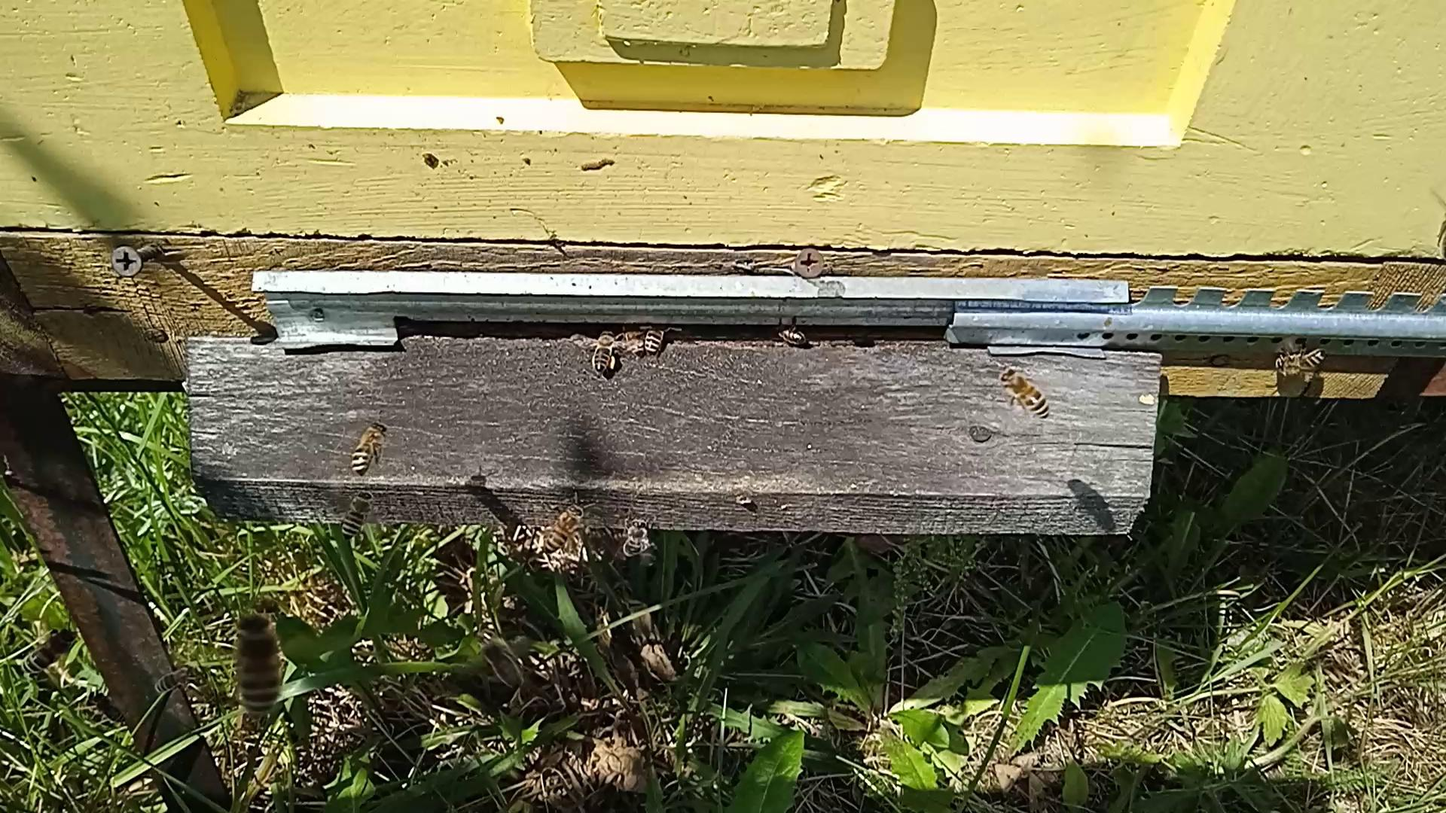worker-bee: (234, 614, 284, 718), (997, 364, 1053, 419), (25, 628, 75, 674), (349, 422, 389, 476), (541, 504, 585, 553), (482, 642, 524, 690), (1274, 346, 1330, 378), (340, 489, 374, 538), (587, 327, 620, 376), (621, 519, 653, 561), (153, 668, 193, 694), (93, 691, 125, 723), (618, 323, 645, 358), (642, 323, 670, 356), (775, 324, 809, 347)
